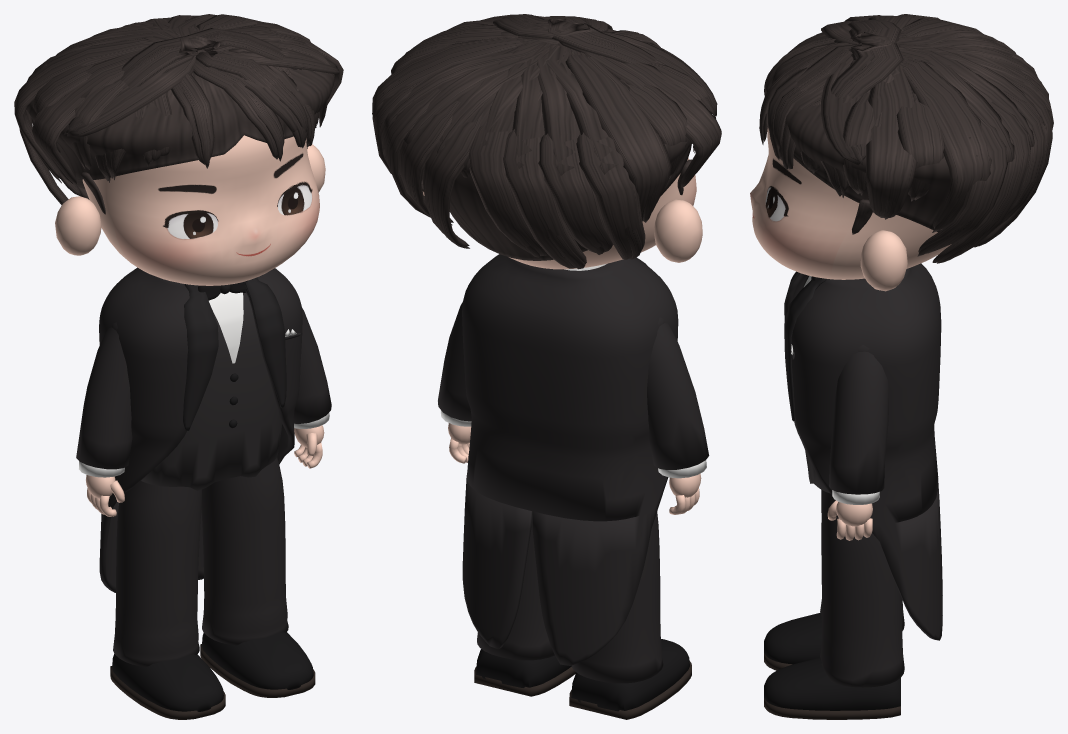
The model's file is Groom.fbx.
3 renders of one model, left to right at view 1: azimuth 30°, elevation 25°; view 2: azimuth 150°, elevation 25°; view 3: azimuth 270°, elevation 25°, orthographic. The views are drawn at different scales.
Parts seen in each view (by area): view 1: Groom; view 2: Groom; view 3: Groom.
Part boxes in pixels (left/top/right/bottom): Groom: left=14, top=14, right=343, bottom=719; Groom: left=372, top=14, right=721, bottom=719; Groom: left=750, top=14, right=1053, bottom=719.
Size of the model in its own units: 0.6594 by 1.33 by 0.5733.
1 material, 1 textured.
